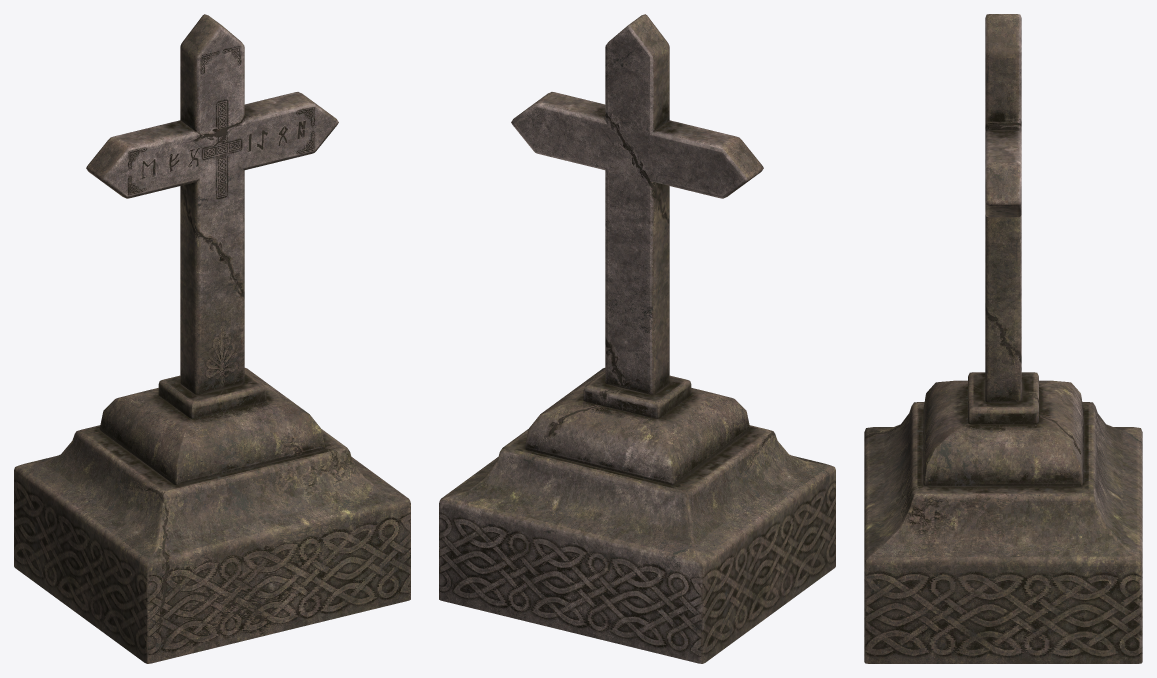
Rendered from SM_gravestone_11.fbx.
3 views of the same model, side by side, from view 1: azimuth 30°, elevation 25°; view 2: azimuth 150°, elevation 25°; view 3: azimuth 270°, elevation 25° (orthographic). The views are drawn at different scales.
Parts seen in each view (by area): view 1: SM_gravestone_011; view 2: SM_gravestone_011; view 3: SM_gravestone_011.
Boxes of the visible parts, left/top/right/bottom form: SM_gravestone_011: left=14, top=14, right=410, bottom=663; SM_gravestone_011: left=439, top=14, right=835, bottom=663; SM_gravestone_011: left=864, top=14, right=1142, bottom=663.
Size of the model in its own units: 59.07 by 120 by 51.82.
